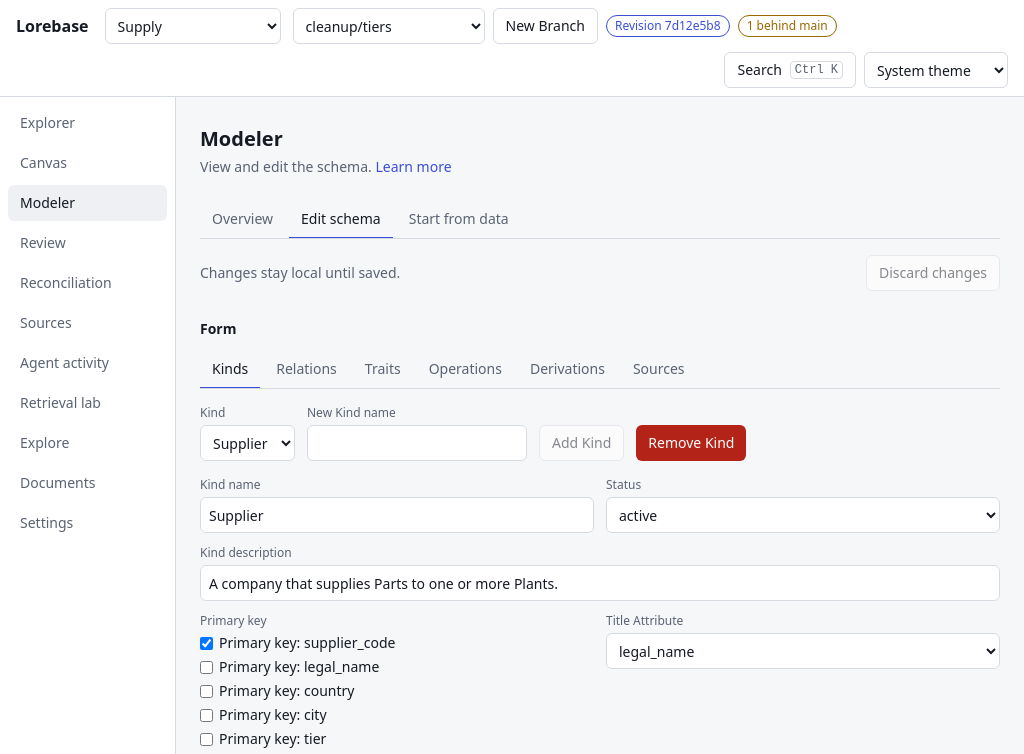
it: Modeler schema editor: two synchronized views › adds a Kind in the form and shows it in the YAML
The image size is (1024, 754).
In the field labelled "New Kind name": (417, 443) left=307, top=425, right=527, bottom=461, type "Warehouse"
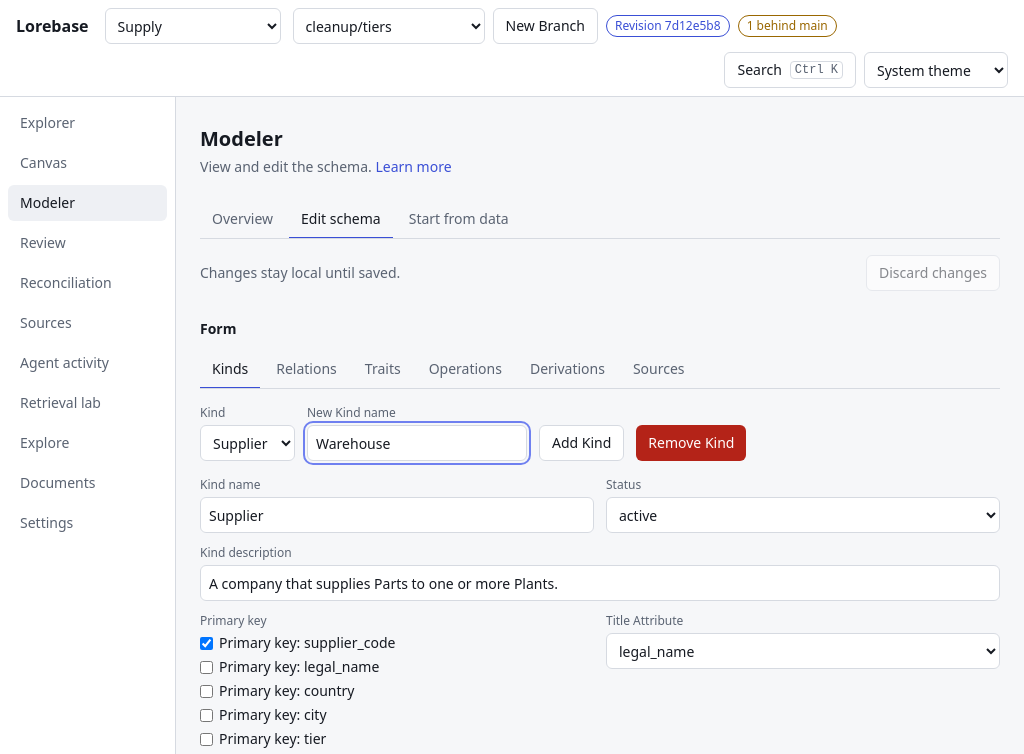
Click the button "Add Kind": (582, 443) left=539, top=425, right=624, bottom=461
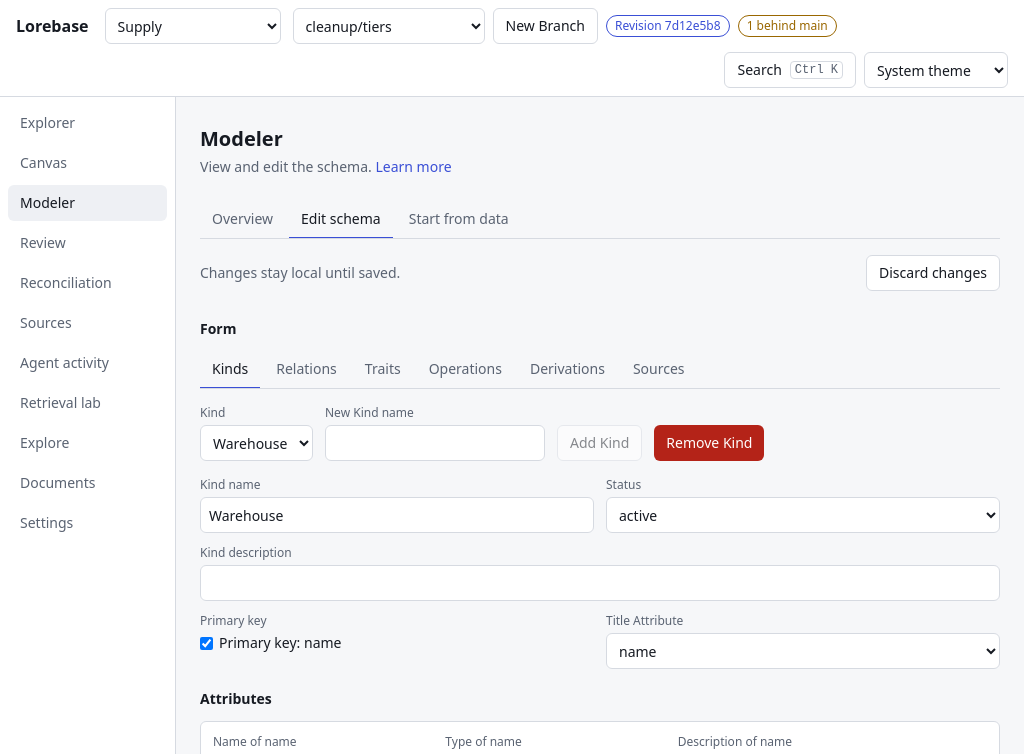
Result: the dropdown labelled "Kind" shows "Warehouse" at left=200, top=425, right=313, bottom=461
